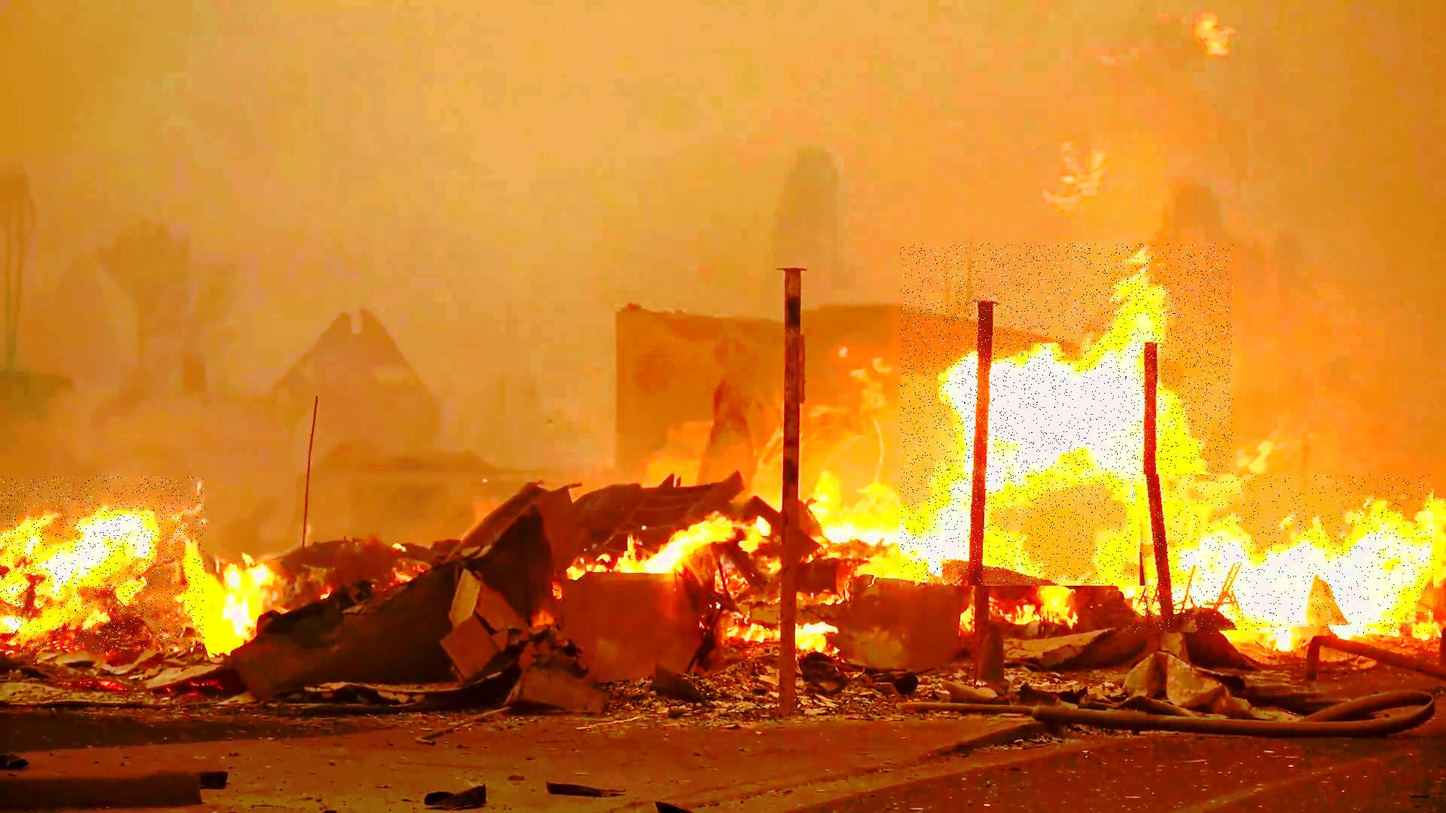fire: (900, 243, 1233, 586), (1135, 475, 1435, 634), (0, 477, 206, 652)
